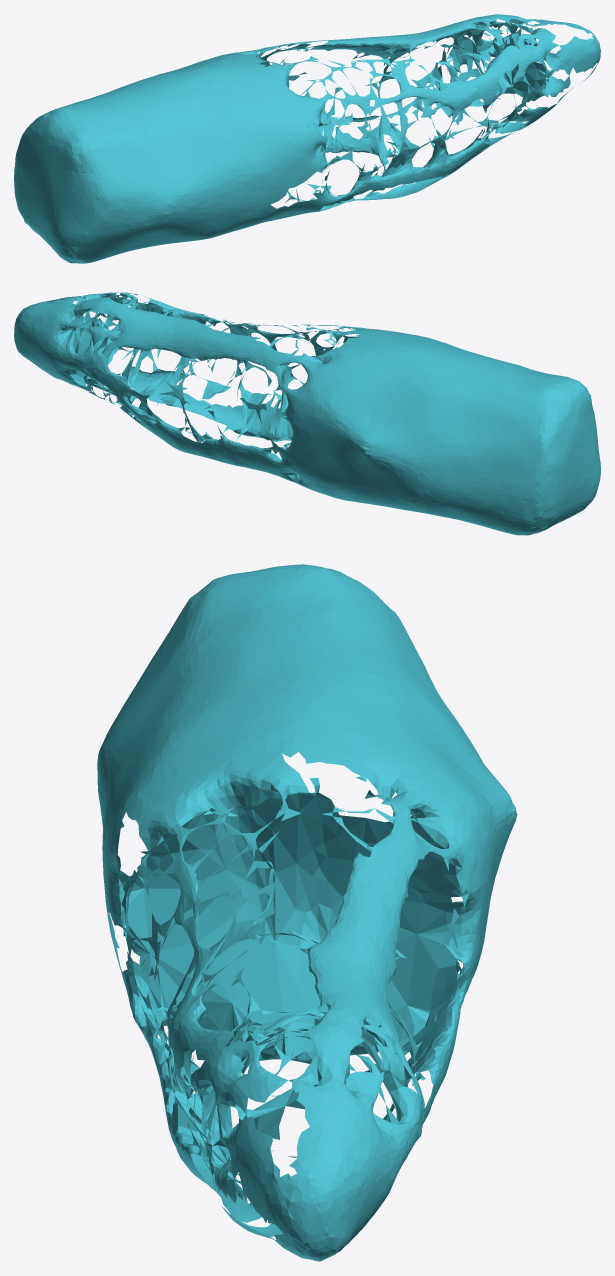
3 renders of one model, top to bottom at view 1: azimuth 30°, elevation 25°; view 2: azimuth 150°, elevation 25°; view 3: azimuth 270°, elevation 25°, orthographic. The views are drawn at different scales.
Visible parts, largest first — view 1: Renderer Node; view 2: Renderer Node; view 3: Renderer Node.
Part boxes in pixels (<box>): Renderer Node: <box>14,14,600,263</box>; Renderer Node: <box>14,292,600,535</box>; Renderer Node: <box>97,564,517,1261</box>.
Bounding box in the file's own units: 1.1 × 0.2876 × 0.3587.
1 material, 1 textured.
